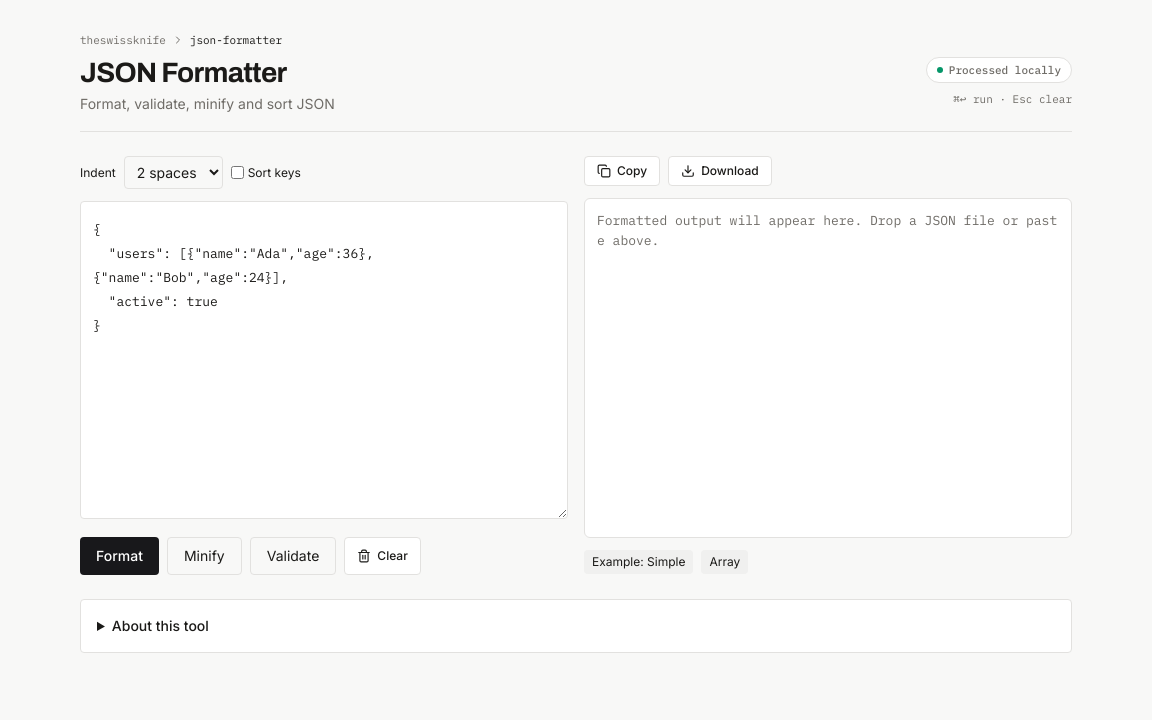
Test: JSON Formatter › formats json on click
Click the button "Format": (120, 556) [80, 537, 159, 575]
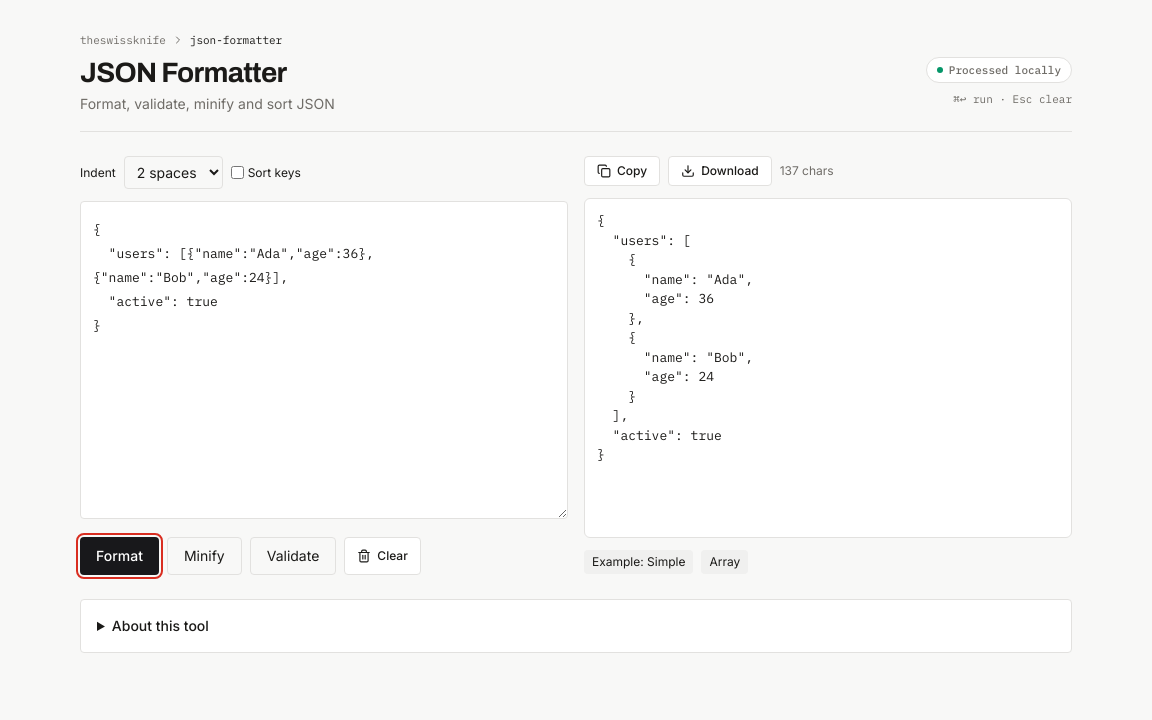
Expected: the text "\"users\"" is shown, [597, 212, 753, 463]
